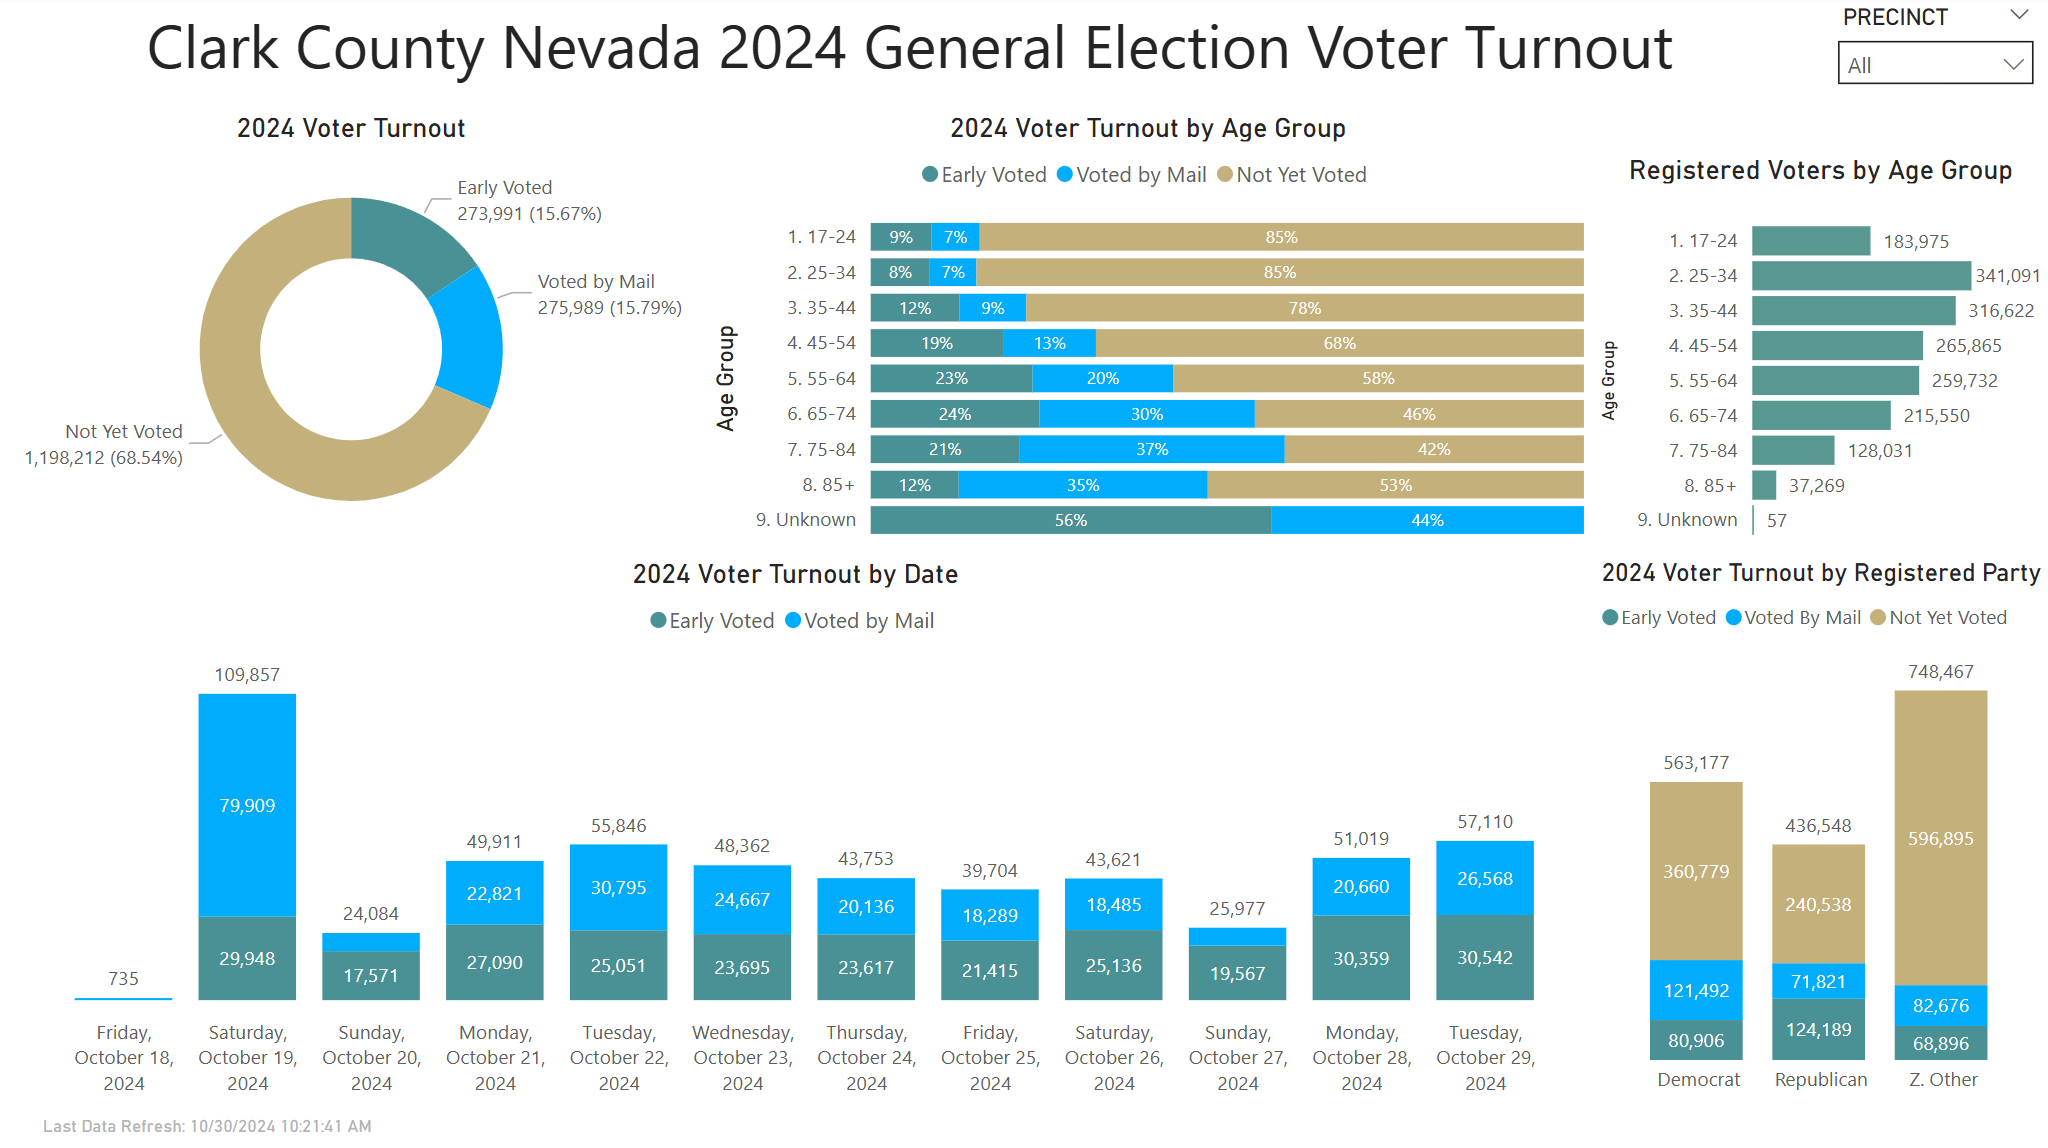

The page's visual inventory and layout, read from the dashboard file:
{"tool":"powerbi","page":{"name":"Dashboard","canvas":[1280,720],"ordinal":0},"visuals":[{"type":"columnChart","title":"2024 Voter Turnout by Date","fields":{"Category":["VoteStatus_20241028.G2024_Voted_Date"],"Y":["Sum(VoteStatus_20241028.Voted_Early)","Sum(VoteStatus_20241028.Voted_Mail)"]},"box":[0,349.7,995.1,343.8],"z":0},{"type":"donutChart","title":"2024 Voter Turnout","fields":{"Y":["Sum(VoteStatus_20241028.Voted_Early)","Sum(VoteStatus_20241028.Voted_Mail)","Sum(VoteStatus_20241028.Not_Voted)"]},"box":[0,71.6,440.7,278.4],"z":1000},{"type":"hundredPercentStackedBarChart","title":"2024 Voter Turnout by Age Group","fields":{"Category":["VoteStatus_20241028.Age_Group"],"Y":["Sum(VoteStatus_20241028.Voted_Early)","Sum(VoteStatus_20241028.Voted_Mail)","Sum(VoteStatus_20241028.Not_Voted)"]},"box":[440.7,71.6,554.1,278.4],"z":2000},{"type":"textbox","title":"Title","box":[0,0,1138,71.6],"z":3000},{"type":"columnChart","title":"2024 Voter Turnout by Registered Party","fields":{"Category":["VoteStatus_20241028.PARTY"],"Y":["Sum(VoteStatus.Voted_Early)","Sum(VoteStatus.Voted_Mail)","Sum(VoteStatus.Not_Voted)"]},"box":[995.1,349.7,284.9,343.8],"z":4000},{"type":"slicer","title":"Precinct Slicer","fields":{"Values":["VoteStatus_20241028.PRECINCT"]},"box":[1138,0,142.4,59.8],"z":5000},{"type":"barChart","title":"Registered Voters by Age Group","fields":{"Category":["VoteStatus_20241028.Age_Group"],"Y":["Sum(VoteStatus.QTY)"]},"box":[994.8,97.9,285.6,252.1],"z":6000},{"type":"card","title":"Last Data Refresh","fields":{"Values":["Reload Time.Refresh Time Label"]},"box":[0,693.5,261.3,26.5],"z":7000}]}

Visuals, with their boxes in screenshot pixels (x1, y1, x2, y2), scaled from the page's 1280x720 canvas onto the 2048x1148 screenshot:
"2024 Voter Turnout by Date" columnChart: region(0, 558, 1592, 1106)
"2024 Voter Turnout" donutChart: region(0, 114, 705, 558)
"2024 Voter Turnout by Age Group" hundredPercentStackedBarChart: region(705, 114, 1592, 558)
"Title" textbox: region(0, 0, 1821, 114)
"2024 Voter Turnout by Registered Party" columnChart: region(1592, 558, 2047, 1106)
"Precinct Slicer" slicer: region(1821, 0, 2047, 95)
"Registered Voters by Age Group" barChart: region(1592, 156, 2047, 558)
"Last Data Refresh" card: region(0, 1106, 418, 1147)
